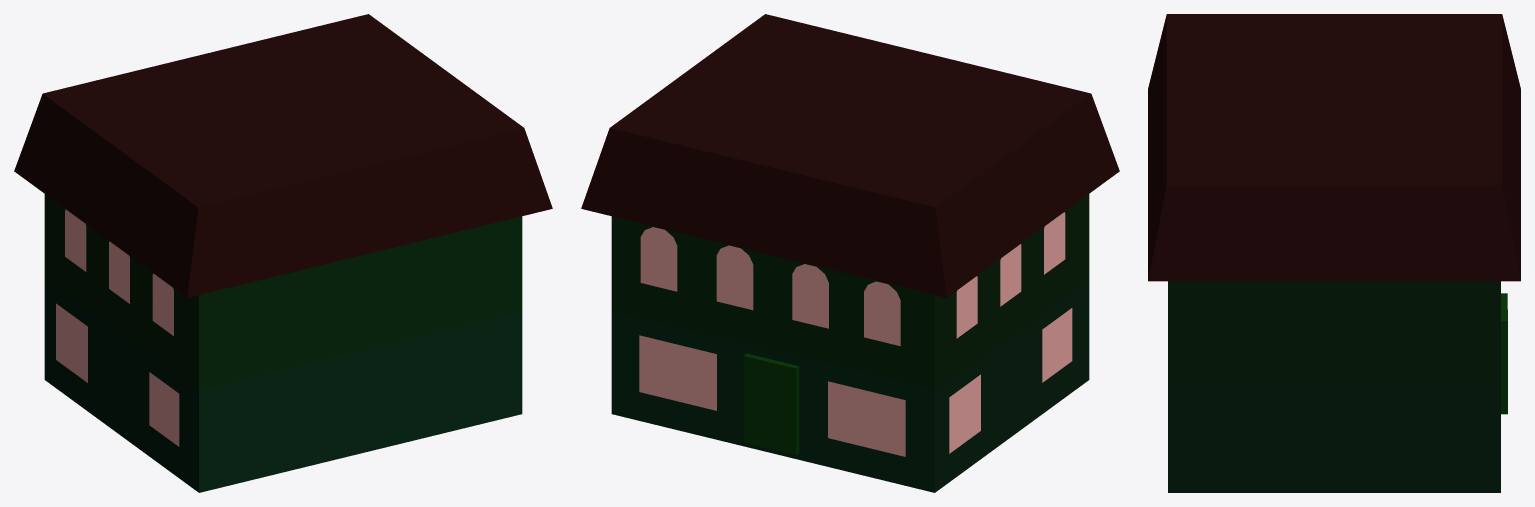
Rendered from Building7.fbx.
The picture shows the model from 3 angles, left to right: view 1: azimuth 30°, elevation 25°; view 2: azimuth 150°, elevation 25°; view 3: azimuth 270°, elevation 25°; orthographic projection. The views are drawn at different scales.
Visible parts, largest first — view 1: Cube.006; view 2: Cube.006; view 3: Cube.006.
Part boxes in pixels (<box>): Cube.006: <box>14,14,552,492</box>; Cube.006: <box>581,14,1119,492</box>; Cube.006: <box>1148,14,1520,492</box>.
Size of the model in its own units: 2133 by 1596 by 1749.
